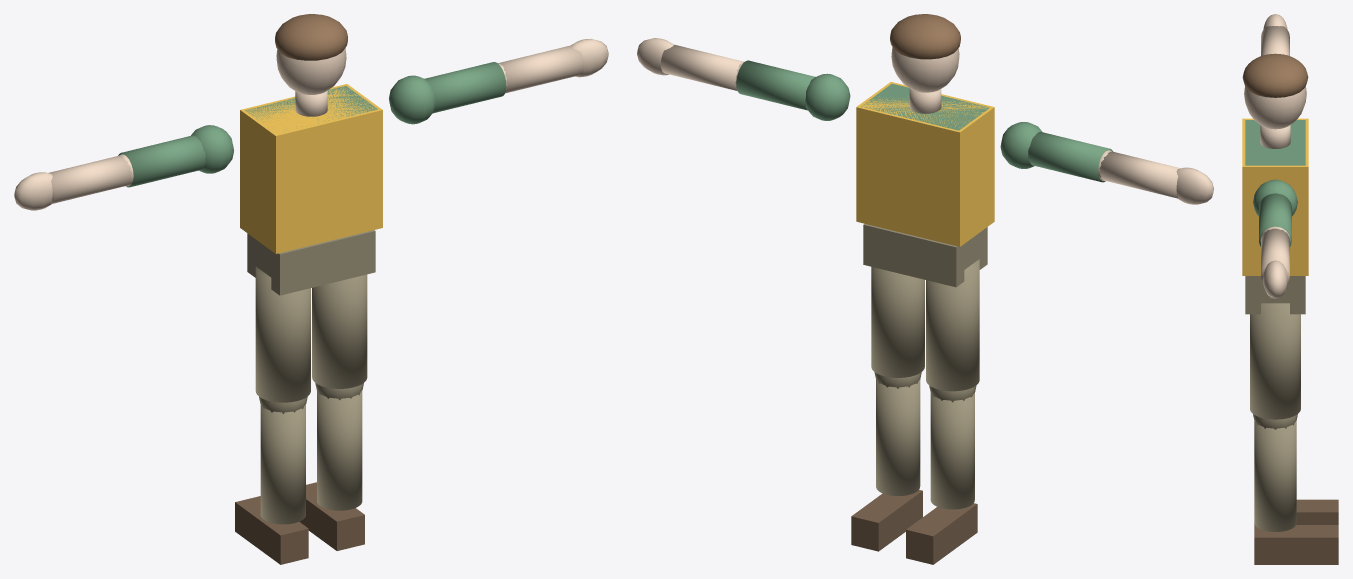
File: keeper_npc.glb
The picture shows the model from 3 angles, left to right: view 1: azimuth 30°, elevation 25°; view 2: azimuth 150°, elevation 25°; view 3: azimuth 270°, elevation 25°; orthographic projection. The views are drawn at different scales.
Visible parts, largest first — view 1: NPC_Keeper; view 2: NPC_Keeper; view 3: NPC_Keeper.
Part boxes in pixels (x1=…): NPC_Keeper: x1=14, y1=14, x2=608, y2=564; NPC_Keeper: x1=637, y1=14, x2=1213, y2=564; NPC_Keeper: x1=1242, y1=14, x2=1338, y2=564.
Bounding box in the file's own units: 2.11 × 1.79 × 0.32.
